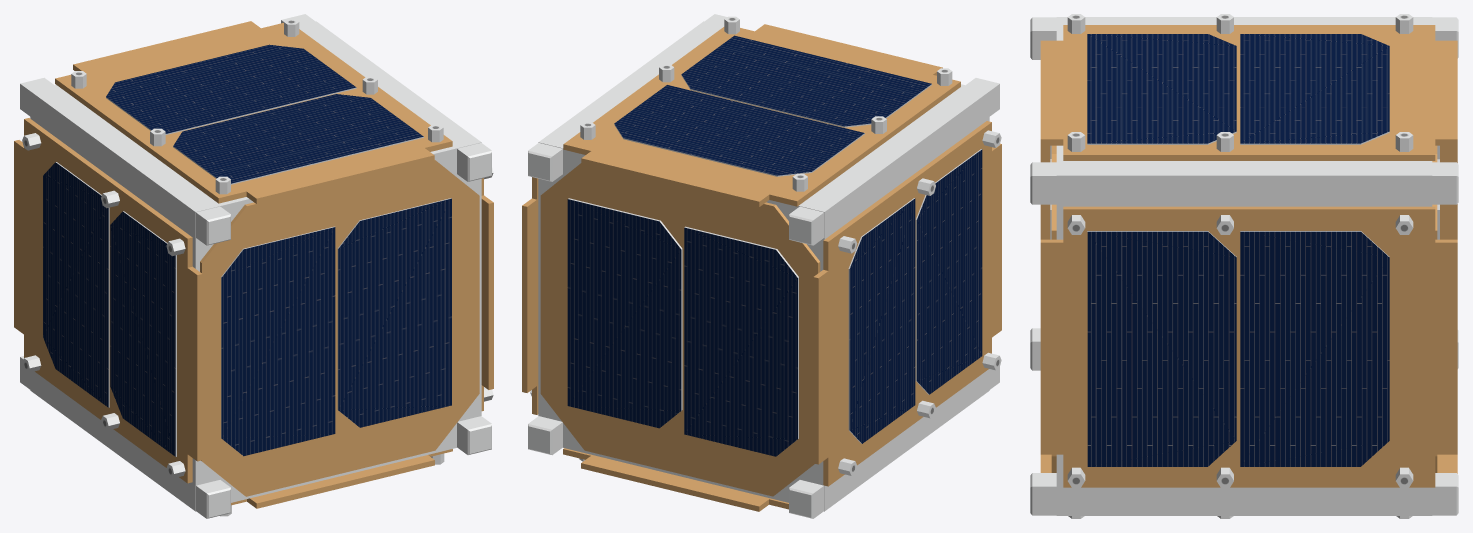
The model's file is Cubesat_1u.glb.
3 views of the same model, side by side, from view 1: azimuth 30°, elevation 25°; view 2: azimuth 150°, elevation 25°; view 3: azimuth 270°, elevation 25° (orthographic). The views are drawn at different scales.
Visible parts, largest first — view 1: CubesatBody, Plus-X_Cells, Minus-Y_Cells, Plus-Z_Cells; view 2: CubesatBody, Minus-X_Cells, Minus-Y_Cells, Plus-Z_Cells; view 3: CubesatBody, Plus-Y_Cells, Plus-Z_Cells.
Boxes of the visible parts, <box> form: CubesatBody: <box>14,14,493,518</box>; Plus-X_Cells: <box>221,198,451,456</box>; Minus-Y_Cells: <box>43,162,175,456</box>; Plus-Z_Cells: <box>106,44,423,183</box>; CubesatBody: <box>522,14,1001,518</box>; Minus-X_Cells: <box>567,199,797,456</box>; Minus-Y_Cells: <box>849,149,982,443</box>; Plus-Z_Cells: <box>614,35,931,175</box>; CubesatBody: <box>1030,14,1458,518</box>; Plus-Y_Cells: <box>1087,231,1389,466</box>; Plus-Z_Cells: <box>1087,34,1389,143</box>.
Bounding box in the file's own units: 0.1117 × 0.1117 × 0.114.
Materials: 2 (2 with a texture image).
